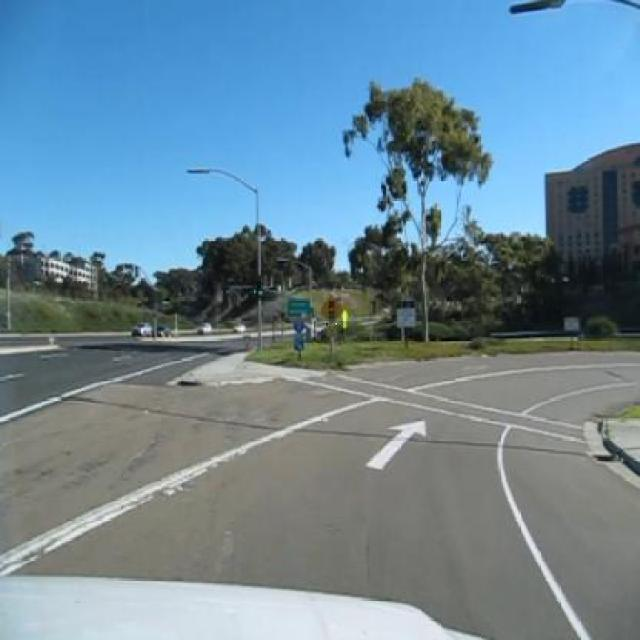signalAhead: (318, 292, 342, 326)
